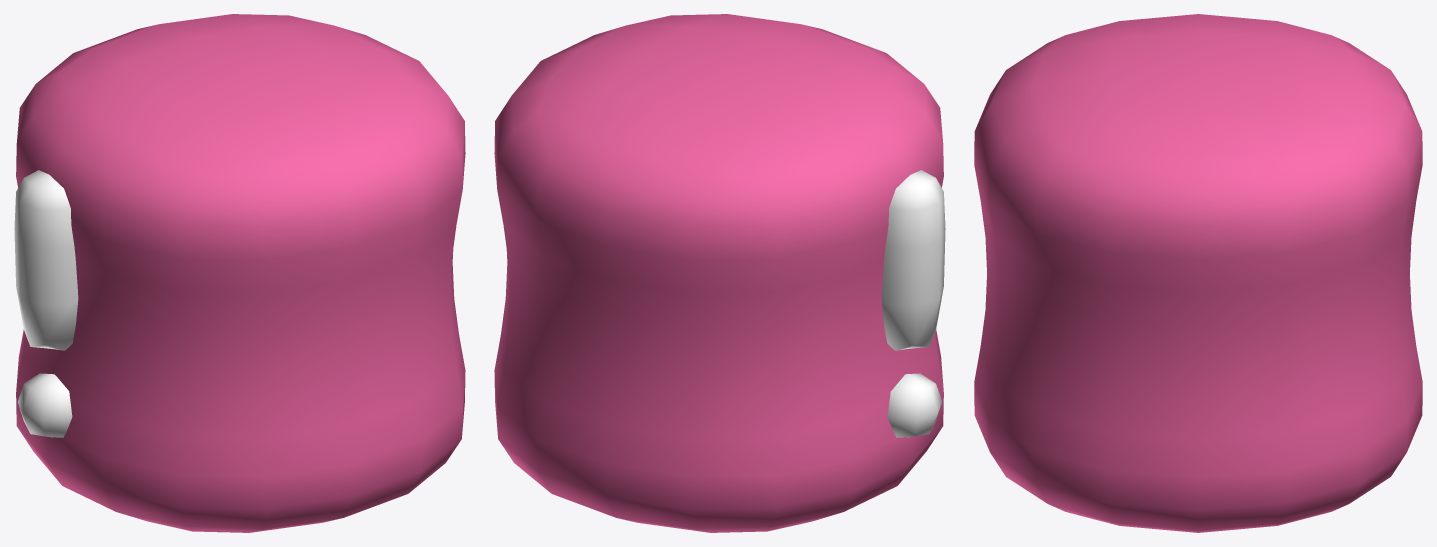
Rendered from v2_questionBlock.fbx.
3 views of the same model, side by side, from view 1: azimuth 30°, elevation 25°; view 2: azimuth 150°, elevation 25°; view 3: azimuth 270°, elevation 25° (orthographic).
Visible parts, largest first — view 1: v2_questionBlock; view 2: v2_questionBlock; view 3: v2_questionBlock.
Boxes of the visible parts, x1=… form: v2_questionBlock: x1=14, y1=14, x2=465, y2=532; v2_questionBlock: x1=494, y1=14, x2=945, y2=532; v2_questionBlock: x1=974, y1=14, x2=1422, y2=532.
Bounding box in the file's own units: 105 × 99.99 × 98.2.
